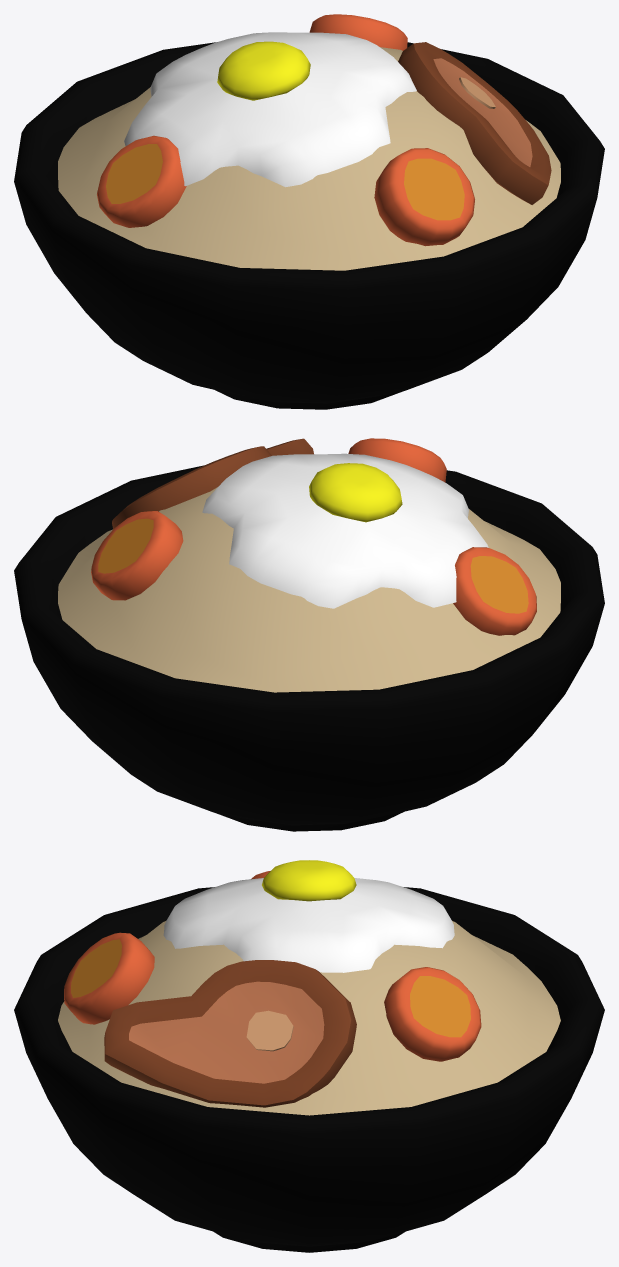
File: ASFTR_Bowl_RiceHumanEggCarrot.fbx
The picture shows the model from 3 angles, top to bottom: view 1: azimuth 30°, elevation 25°; view 2: azimuth 150°, elevation 25°; view 3: azimuth 270°, elevation 25°; orthographic projection.
Visible parts, largest first — view 1: ASFTR_Bowl_RiceHumanEggCarrot; view 2: ASFTR_Bowl_RiceHumanEggCarrot; view 3: ASFTR_Bowl_RiceHumanEggCarrot.
Boxes of the visible parts, box(x1,y1,x2,y2) form: ASFTR_Bowl_RiceHumanEggCarrot: box(14, 14, 604, 409); ASFTR_Bowl_RiceHumanEggCarrot: box(14, 438, 604, 831); ASFTR_Bowl_RiceHumanEggCarrot: box(14, 860, 604, 1252).
Size of the model in its own units: 60.78 by 35.67 by 60.78.
